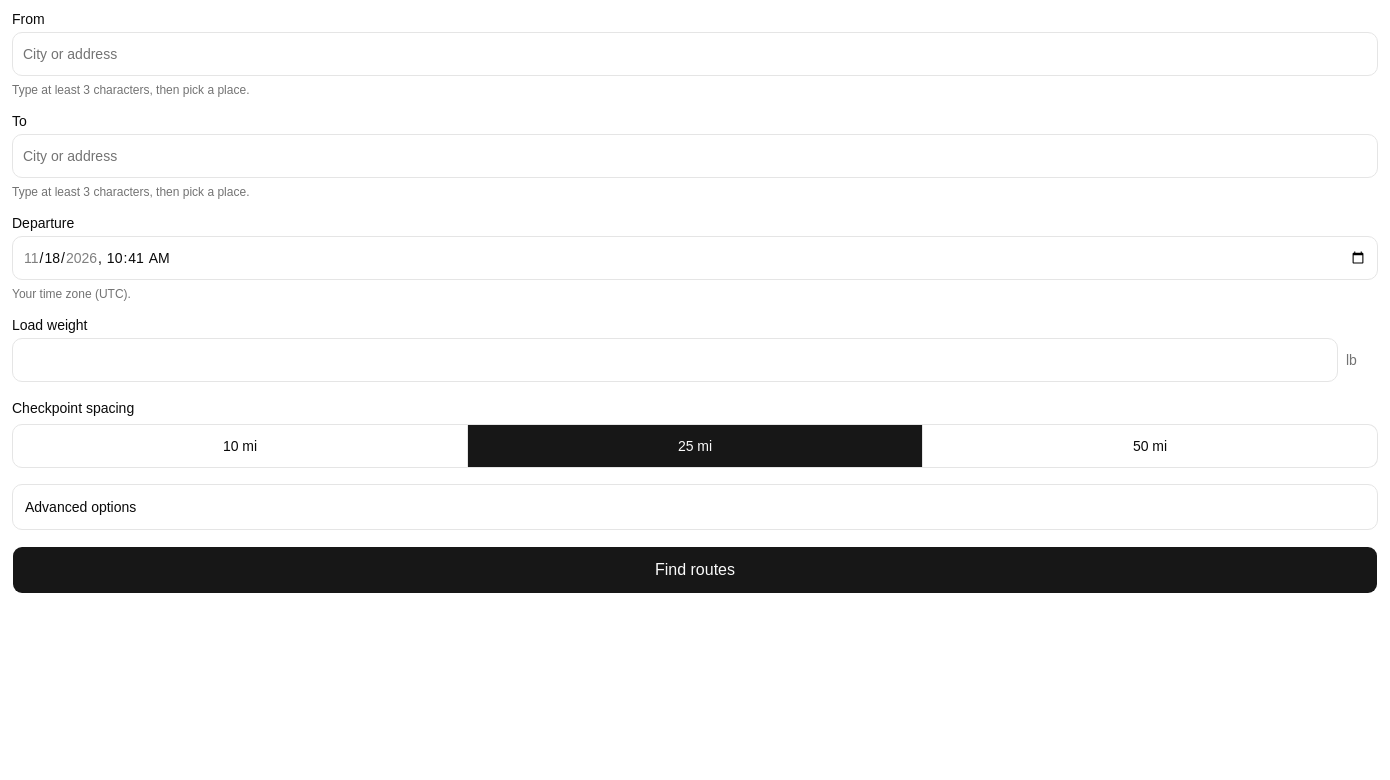
Test case: TripForm › asks for both places and the load before sending anything
Step 1. Click the button "Find routes" → point(695, 570), box [12,546,1378,594]
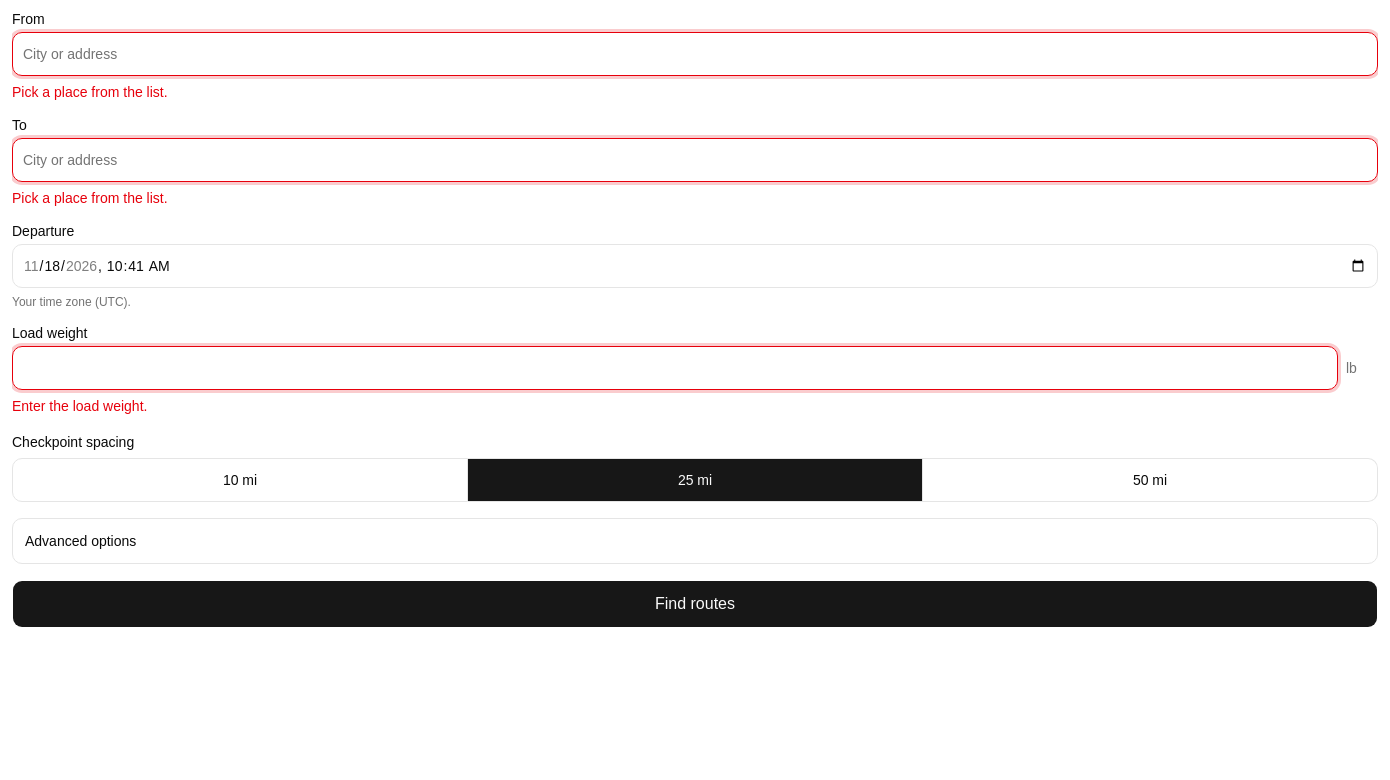
expect the text "Pick a place from the list." is shown 2 times: met, box [12,84,168,100]; [12,190,168,206]
expect the text "Enter the load weight." is shown: met, box [12,398,147,414]
